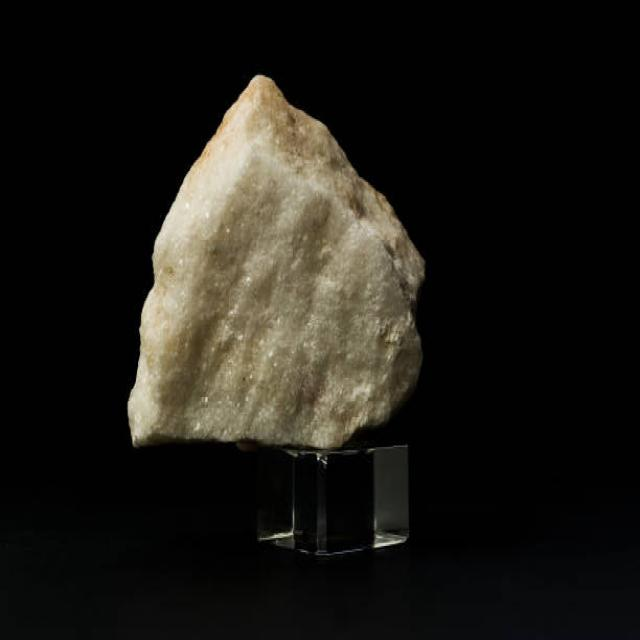Sedimentary: (121, 62, 425, 448)
